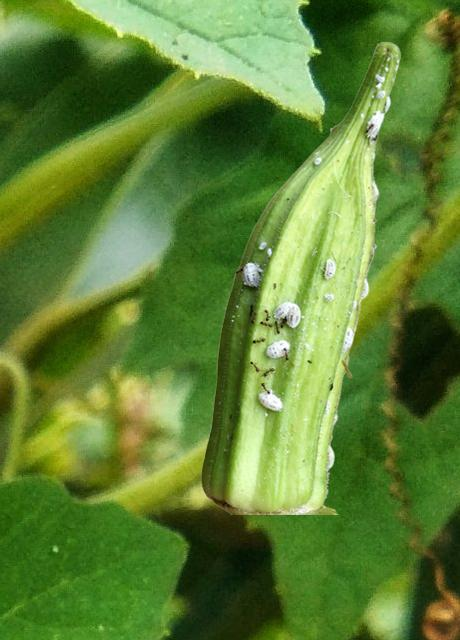okra: (201, 42, 400, 513)
